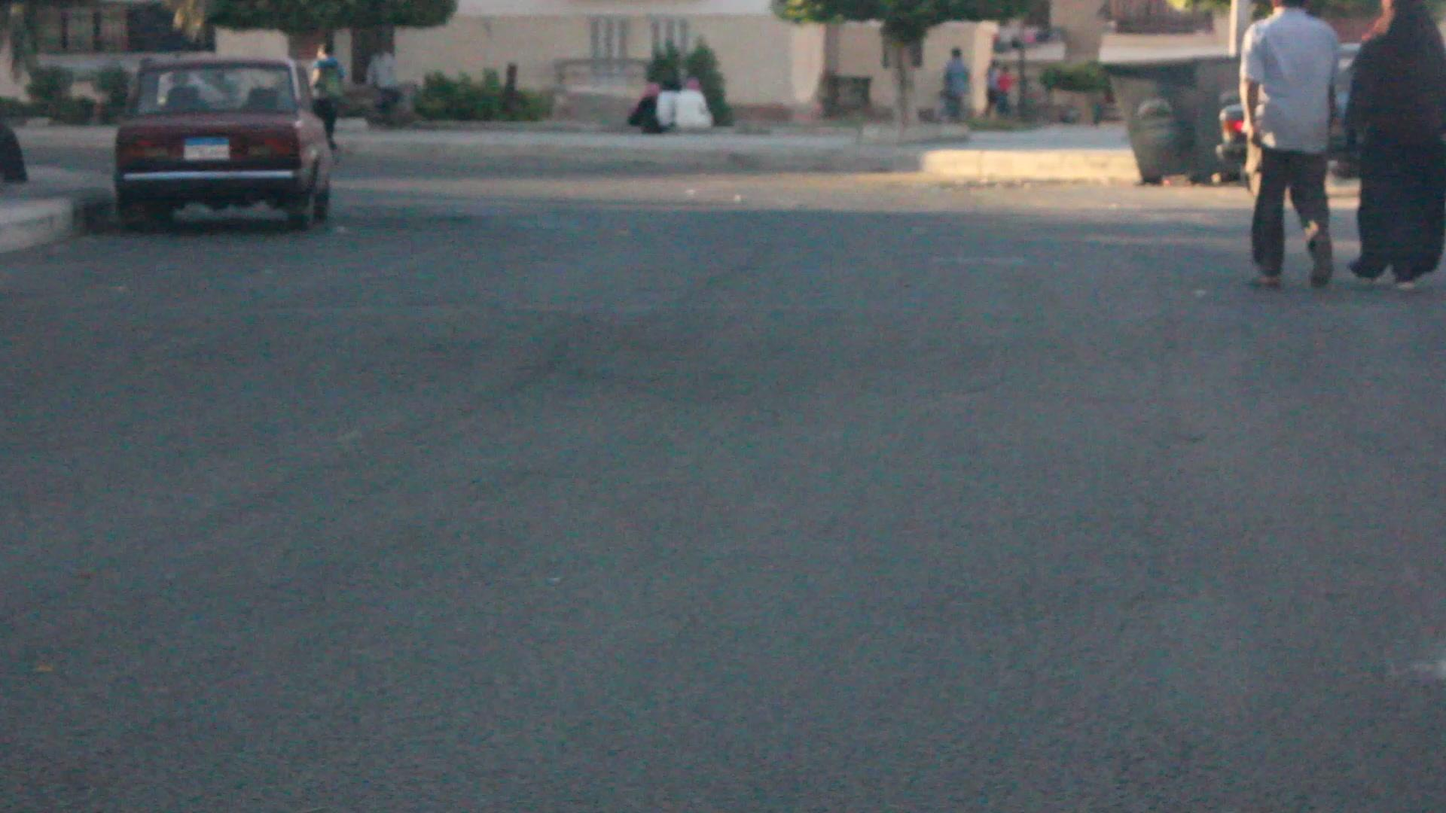Bump: (2, 284, 1446, 367)
